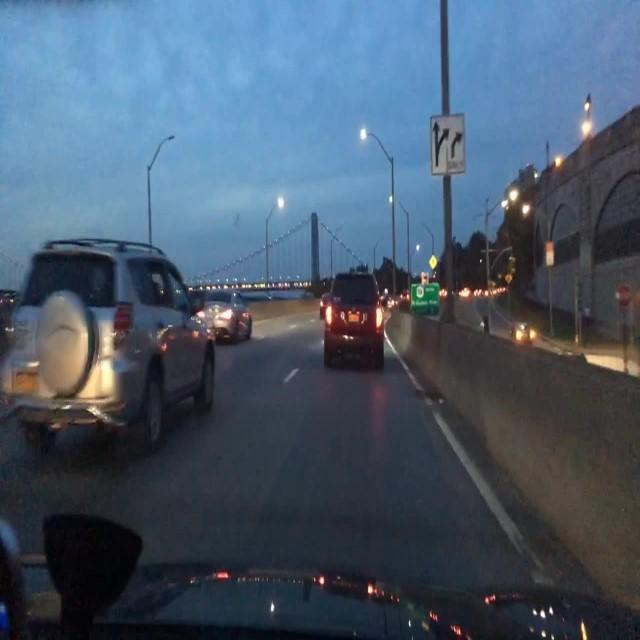normal: (0, 224, 273, 462), (300, 243, 394, 377)
